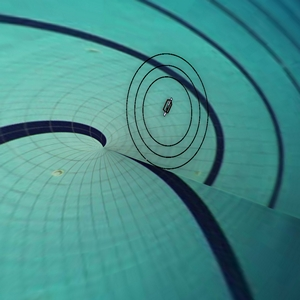circle: (122, 32, 210, 179)
submarine: (160, 94, 175, 121)
